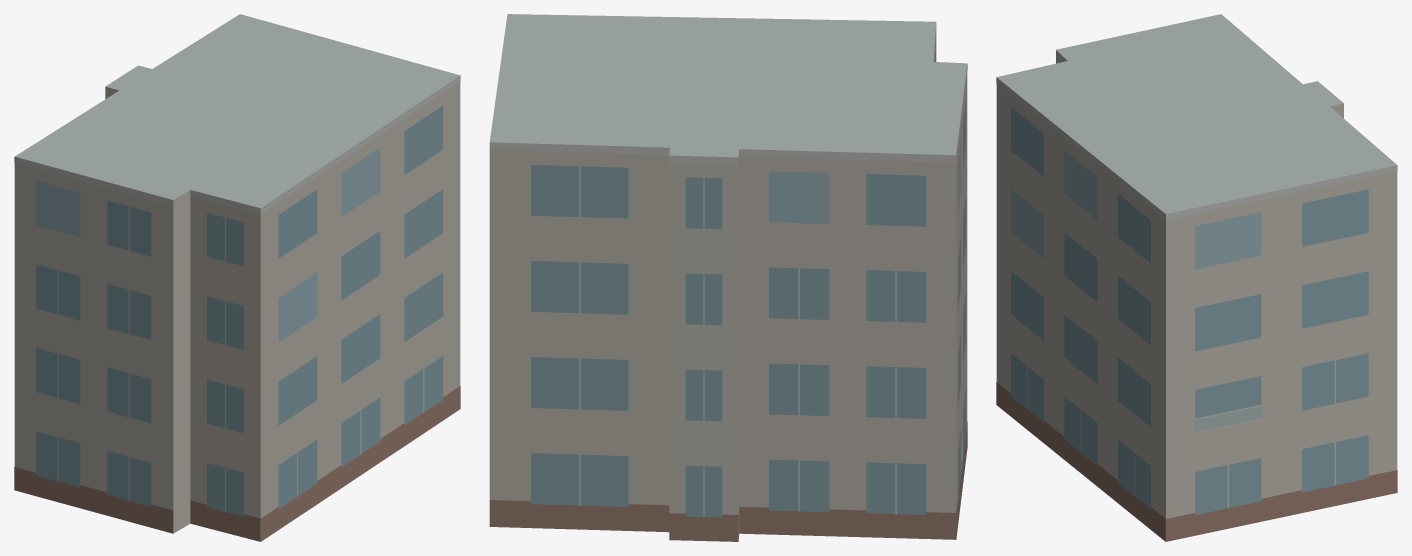
The model's file is survey-upis-32822702.glb.
The picture shows the model from 3 angles, left to right: view 1: azimuth 30°, elevation 25°; view 2: azimuth 150°, elevation 25°; view 3: azimuth 270°, elevation 25°; orthographic projection. The views are drawn at different scales.
Parts seen in each view (by area): view 1: survey-upis-32822702.tmp; view 2: survey-upis-32822702.tmp; view 3: survey-upis-32822702.tmp.
Boxes of the visible parts, x1,y1,x2,y2 form: survey-upis-32822702.tmp: (14, 14, 460, 541); survey-upis-32822702.tmp: (489, 14, 967, 541); survey-upis-32822702.tmp: (996, 14, 1397, 541).
Bounding box in the file's own units: 17.17 × 13.1 × 14.54.
